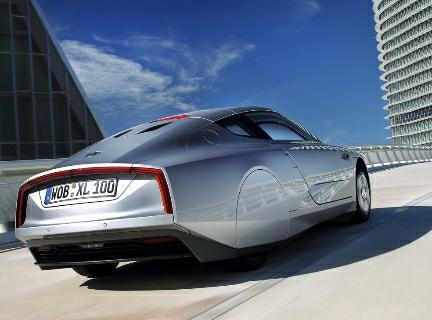大众-XL1: (8, 102, 382, 276)
